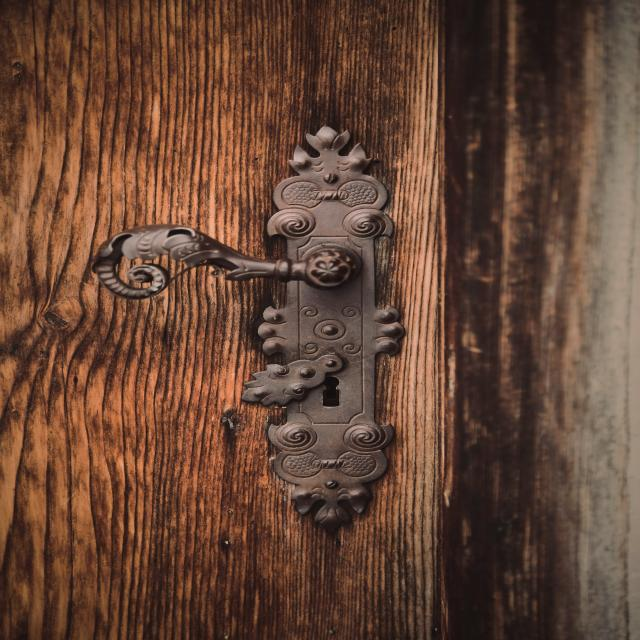door-handle: (92, 225, 362, 299)
